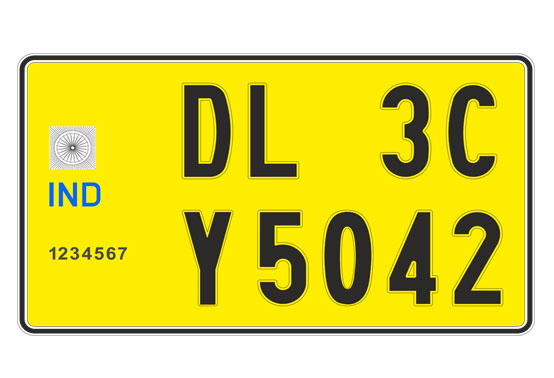number_plate: (17, 51, 535, 335)
